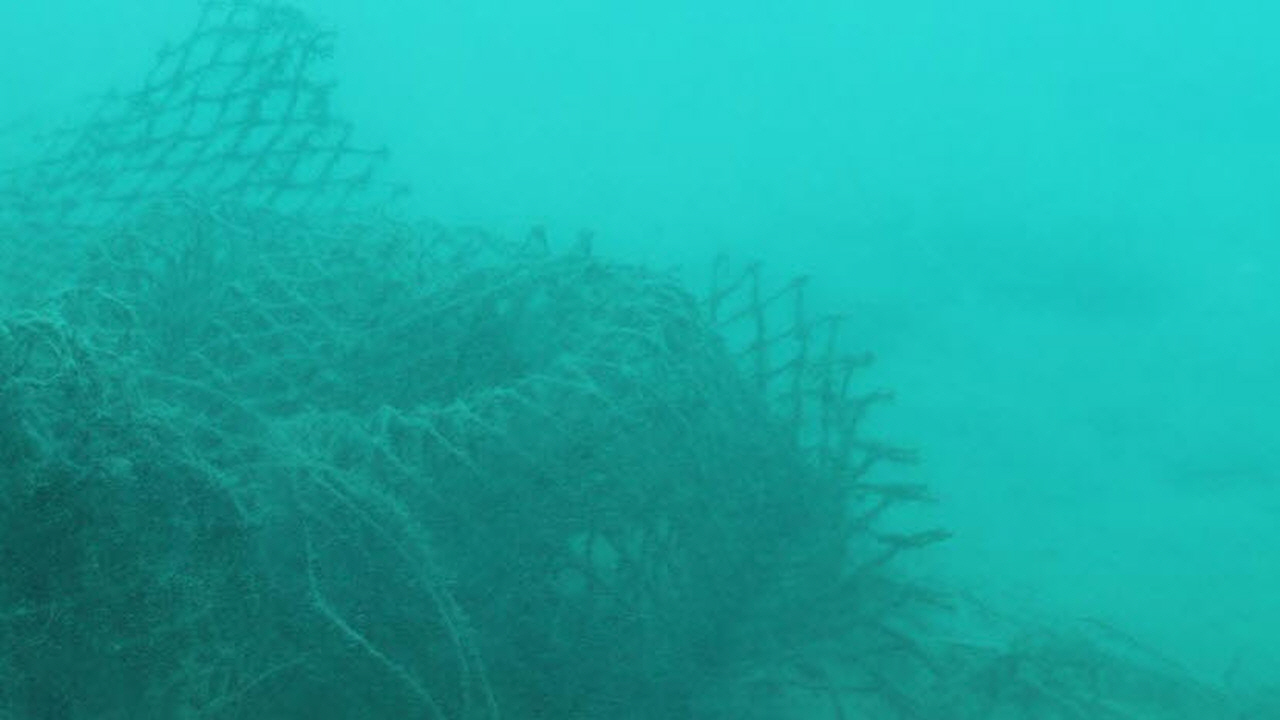fish net: (0, 0, 901, 719)
